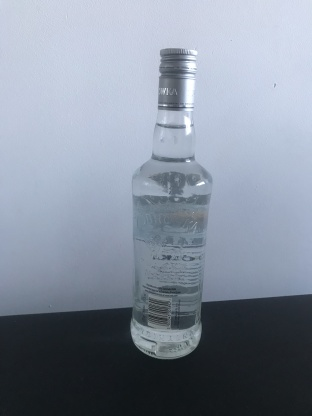nakretka: (156, 45, 198, 113)
